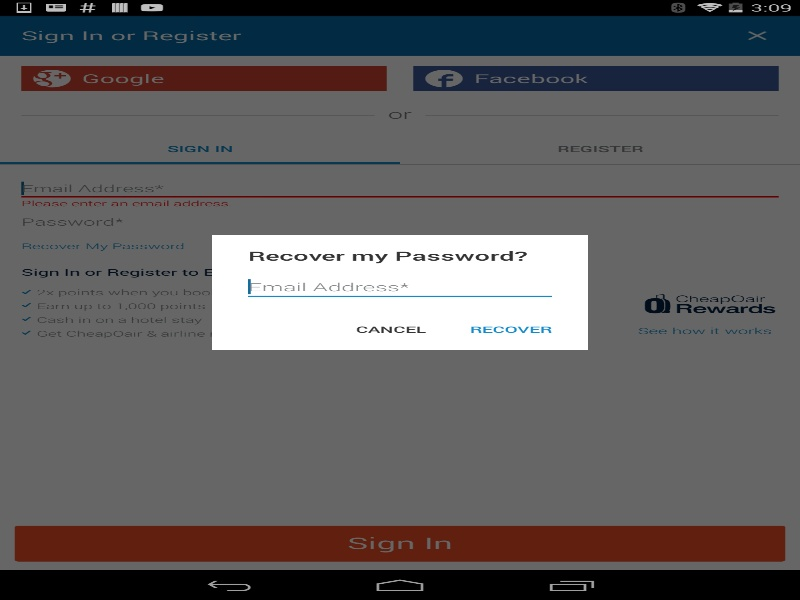Input: (248, 275, 552, 309)
